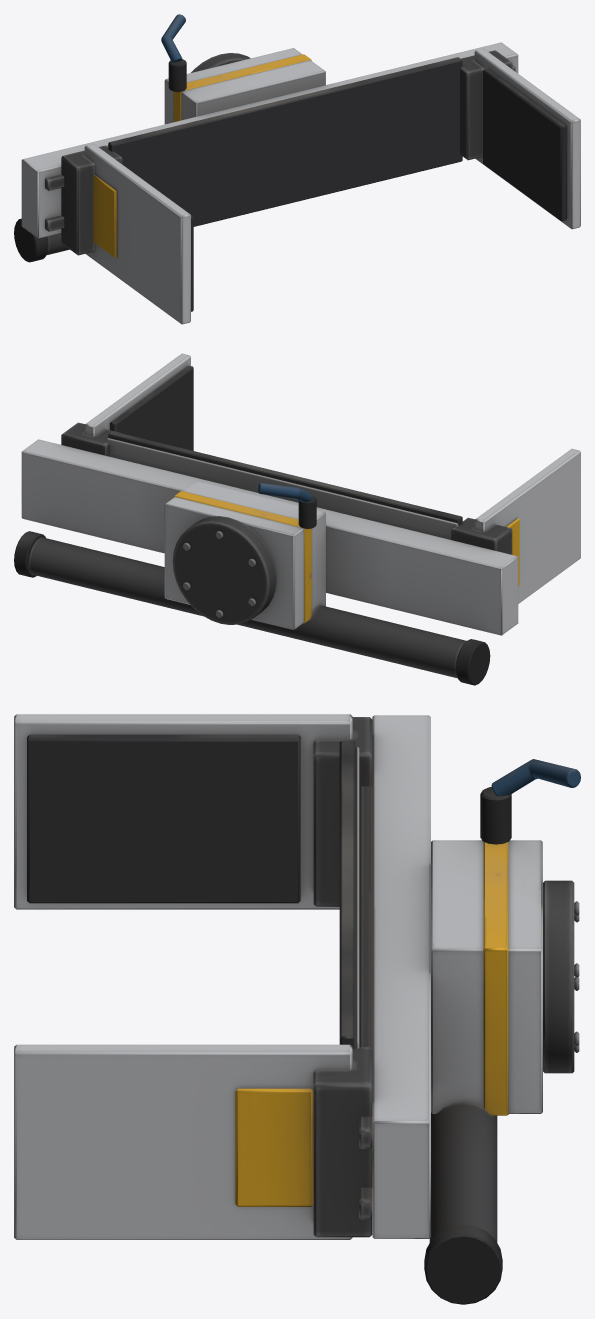
The model's file is Gripper.fbx.
3 renders of one model, top to bottom at view 1: azimuth 30°, elevation 25°; view 2: azimuth 150°, elevation 25°; view 3: azimuth 270°, elevation 25°, orthographic. The views are drawn at different scales.
Parts seen in each view (by area): view 1: Gripper_LOD0, Finger_L_LOD0, Finger_R_LOD0; view 2: Gripper_LOD0, Finger_L_LOD0, Finger_R_LOD0; view 3: Gripper_LOD0, Finger_R_LOD0, Finger_L_LOD0.
Boxes of the visible parts, x1=… form: Gripper_LOD0: x1=14, y1=14, x2=518, y2=262; Finger_L_LOD0: x1=61, y1=143, x2=193, y2=324; Finger_R_LOD0: x1=460, y1=48, x2=580, y2=229; Gripper_LOD0: x1=14, y1=431, x2=518, y2=685; Finger_L_LOD0: x1=451, y1=448, x2=580, y2=603; Finger_R_LOD0: x1=61, y1=353, x2=193, y2=456; Gripper_LOD0: x1=339, y1=715, x2=580, y2=1304; Finger_R_LOD0: x1=14, y1=1044, x2=372, y2=1239; Finger_L_LOD0: x1=14, y1=714, x2=372, y2=909.
Size of what is drawn, in the model's own units: 0.74 by 0.262 by 0.4352.
Materials: 1 (1 with a texture image).
